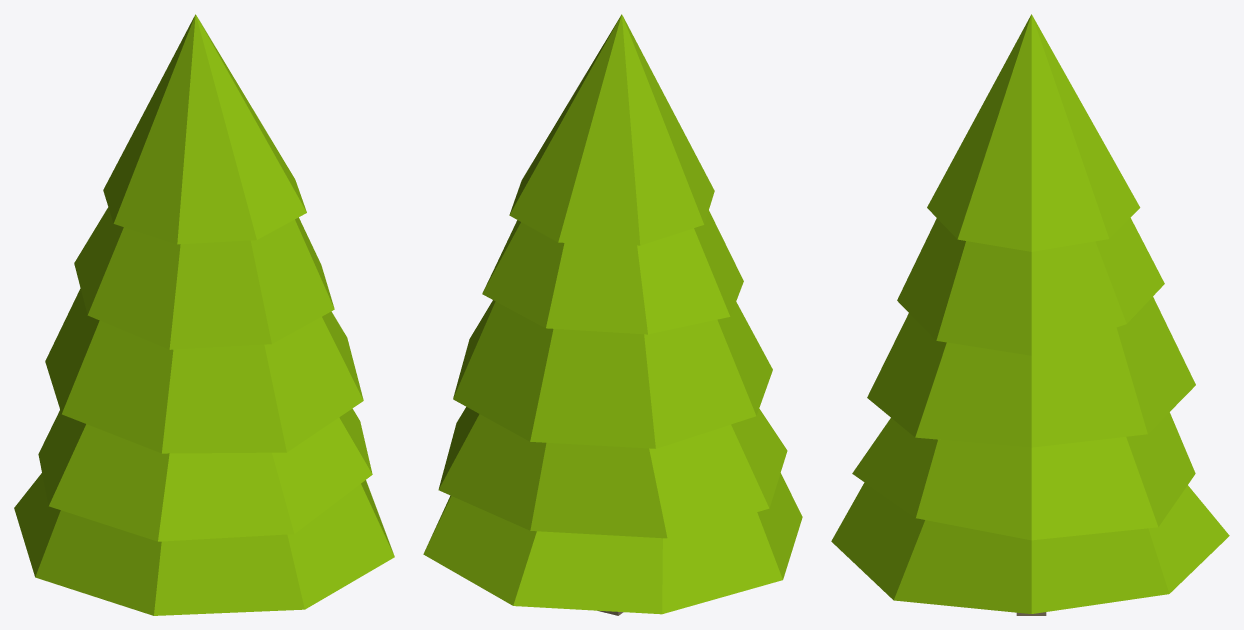
Rendered from pine_skewed_3.fbx.
The picture shows the model from 3 angles, left to right: view 1: azimuth 30°, elevation 25°; view 2: azimuth 150°, elevation 25°; view 3: azimuth 270°, elevation 25°; orthographic projection.
Visible parts, largest first — view 1: pine_skewed_3; view 2: pine_skewed_3; view 3: pine_skewed_3.
Part boxes in pixels (bbox=[...]): pine_skewed_3: bbox=[14, 14, 394, 615]; pine_skewed_3: bbox=[423, 14, 802, 615]; pine_skewed_3: bbox=[831, 14, 1229, 615].
Bounding box in the file's own units: 155 × 266 × 163.
